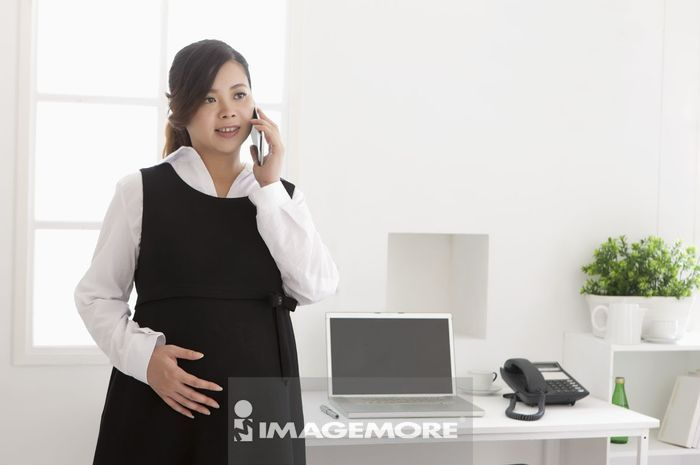phone: (247, 101, 268, 166)
talk: (196, 80, 284, 185)
